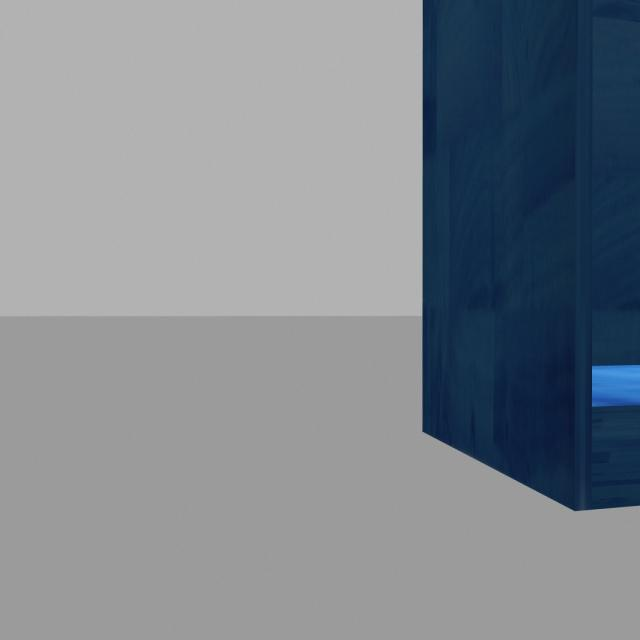shelf: (412, 0, 640, 523)
